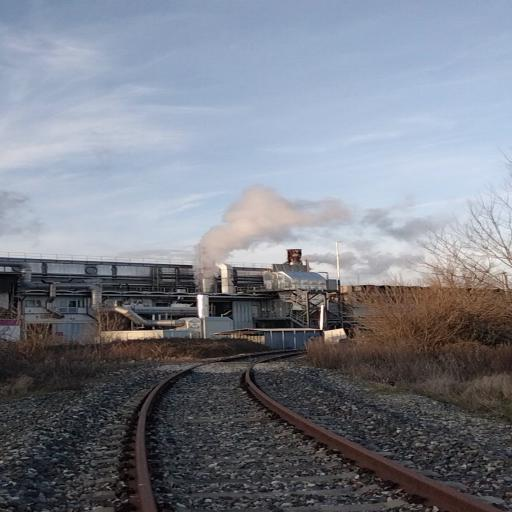leakage: (180, 179, 472, 296)
